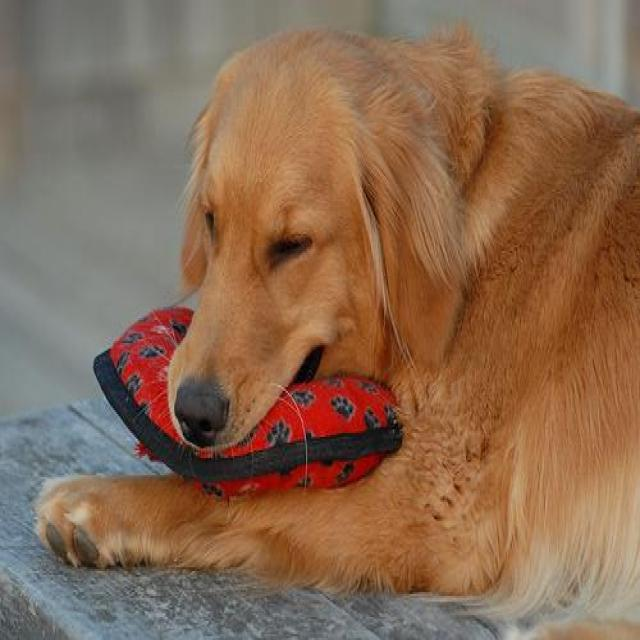adult_dog: (33, 26, 640, 640)
